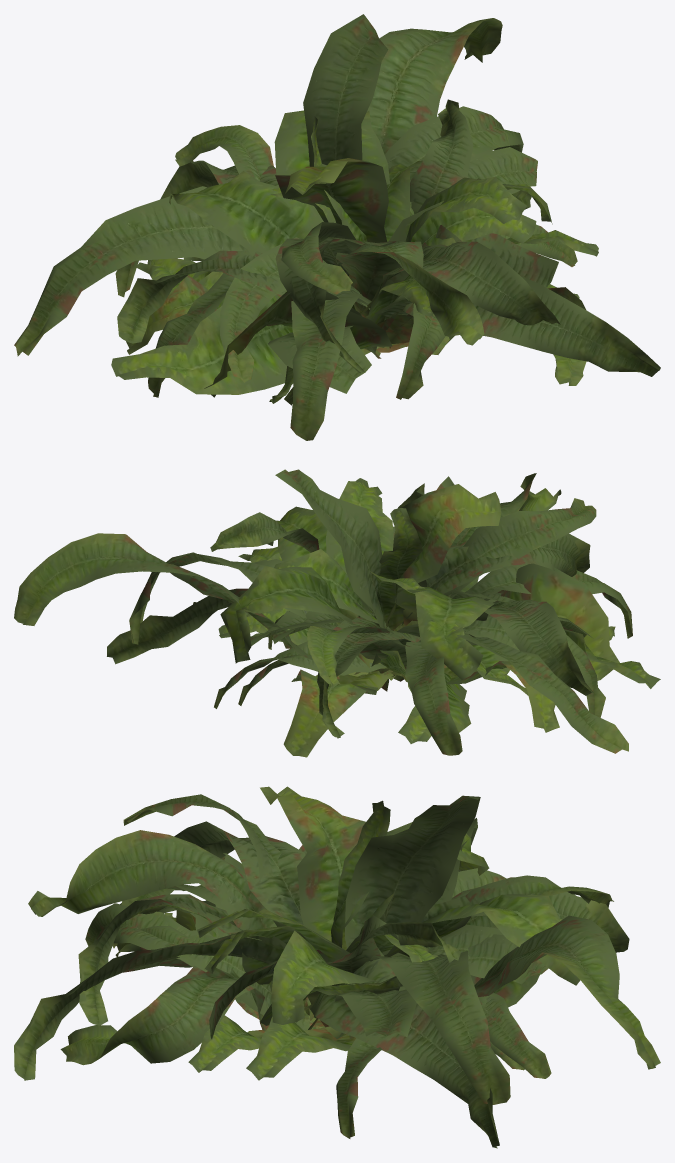
The model's file is fern_02.glb.
The picture shows the model from 3 angles, top to bottom: view 1: azimuth 30°, elevation 25°; view 2: azimuth 150°, elevation 25°; view 3: azimuth 270°, elevation 25°; orthographic projection. The views are drawn at different scales.
Visible parts, largest first — view 1: fern_02_a_lod0, fern_02_d_lod0, fern_02_c_lod0, fern_02_b_lod0; view 2: fern_02_a_lod0, fern_02_d_lod0, fern_02_b_lod0, fern_02_c_lod0; view 3: fern_02_a_lod0, fern_02_d_lod0, fern_02_b_lod0, fern_02_c_lod0.
Part boxes in pixels (x1,y1,x2,y2): fern_02_a_lod0: [14, 14, 660, 440]; fern_02_d_lod0: [111, 116, 586, 405]; fern_02_c_lod0: [136, 237, 579, 403]; fern_02_b_lod0: [198, 99, 558, 354]; fern_02_a_lod0: [14, 469, 632, 757]; fern_02_d_lod0: [107, 476, 660, 755]; fern_02_b_lod0: [210, 512, 528, 708]; fern_02_c_lod0: [267, 553, 615, 743]; fern_02_a_lod0: [14, 786, 660, 1138]; fern_02_d_lod0: [60, 794, 613, 1148]; fern_02_b_lod0: [115, 892, 551, 1078]; fern_02_c_lod0: [127, 900, 407, 1072].
Size of what is drawn, in the model's own units: 0.9897 by 0.4277 by 0.8937.
1 material, 1 textured.
